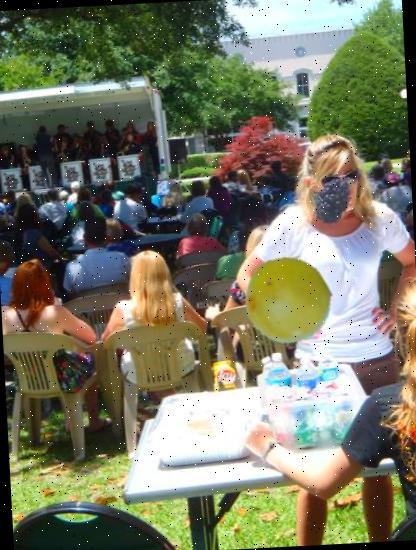Grape: (241, 254, 335, 348)
Mulberry: (300, 168, 358, 225)
